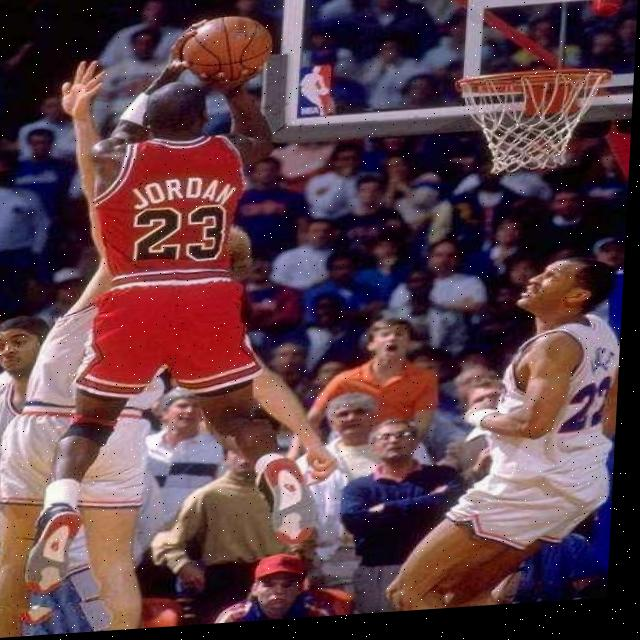basketball: (180, 12, 275, 88)
hoop: (443, 66, 612, 177)
